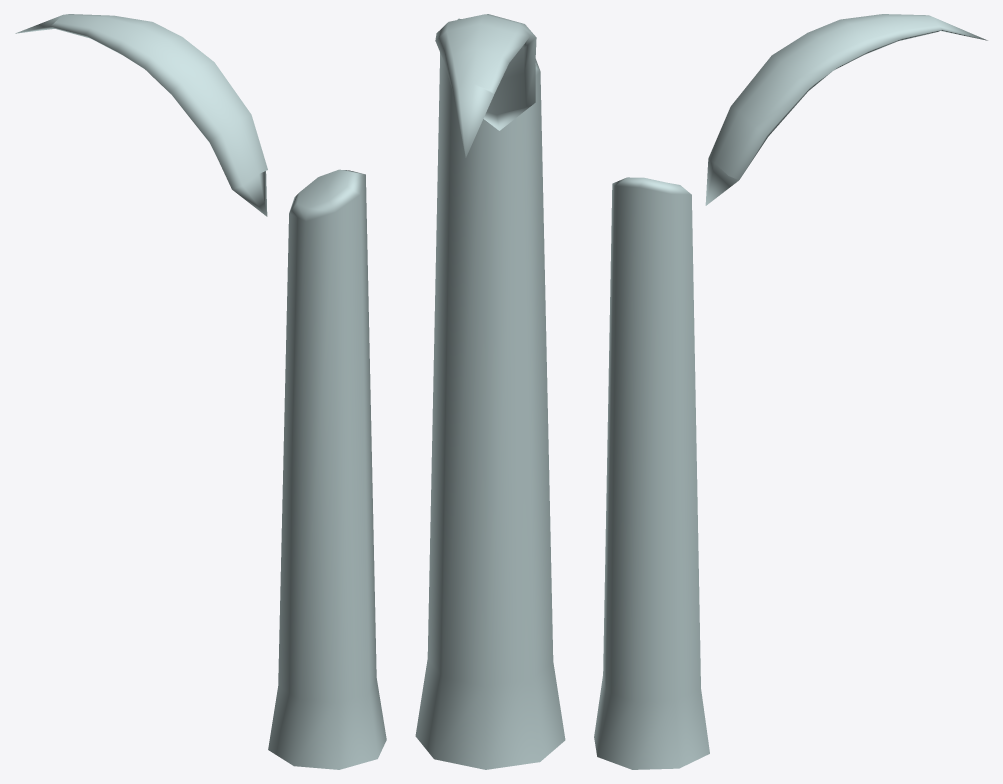
File: cometPlant_stage1.fbx
3 views of the same model, side by side, from view 1: azimuth 30°, elevation 25°; view 2: azimuth 150°, elevation 25°; view 3: azimuth 270°, elevation 25° (orthographic). The views are drawn at different scales.
Visible parts, largest first — view 1: sprout_comet_stem, phase2_comet_leaf3; view 2: sprout_comet_stem, phase2_comet_leaf3; view 3: sprout_comet_stem, phase2_comet_leaf3.
Boxes of the visible parts, x1,y1,x2,y2 form: sprout_comet_stem: [268, 169, 386, 769]; phase2_comet_leaf3: [15, 14, 267, 216]; sprout_comet_stem: [415, 18, 565, 769]; phase2_comet_leaf3: [435, 14, 536, 157]; sprout_comet_stem: [594, 177, 709, 769]; phase2_comet_leaf3: [705, 14, 987, 205].
Bounding box in the file's own units: 10.89 × 35.46 × 18.74.
